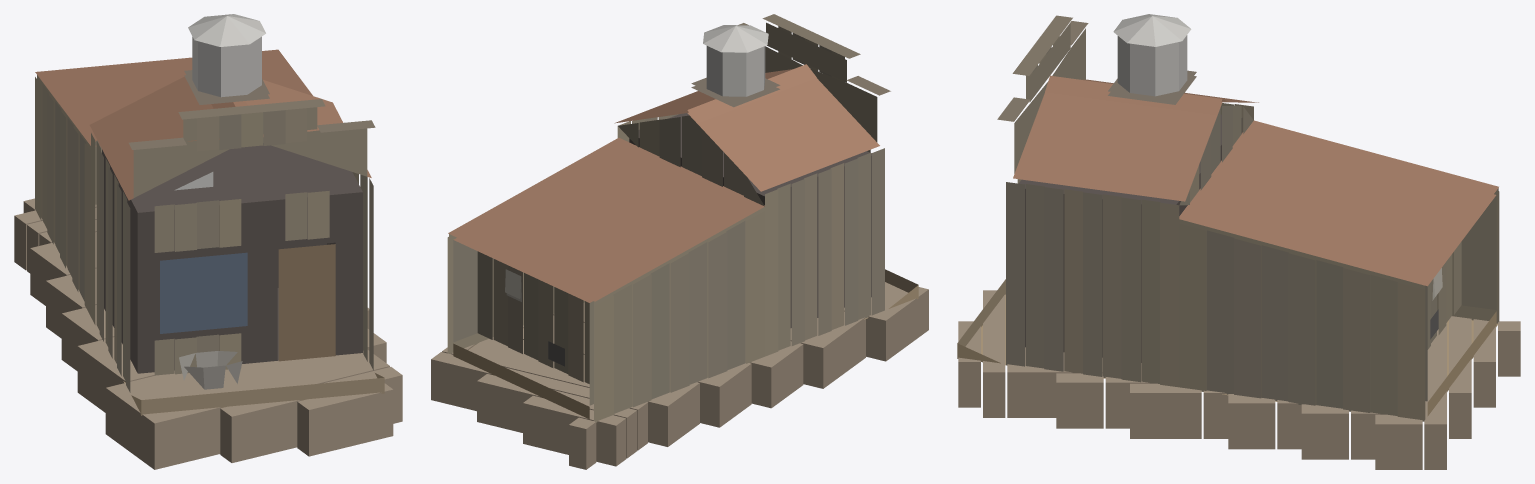
The model's file is house_6.lod.glb.
3 views of the same model, side by side, from view 1: azimuth 30°, elevation 25°; view 2: azimuth 150°, elevation 25°; view 3: azimuth 270°, elevation 25° (orthographic). The views are drawn at different scales.
Visible parts, largest first — view 1: house_6; view 2: house_6; view 3: house_6.
Part boxes in pixels (x1=…): house_6: x1=14, y1=14, x2=402, y2=469; house_6: x1=431, y1=14, x2=928, y2=469; house_6: x1=957, y1=14, x2=1520, y2=469.
Bounding box in the file's own units: 7.98 × 8.07 × 11.48.
